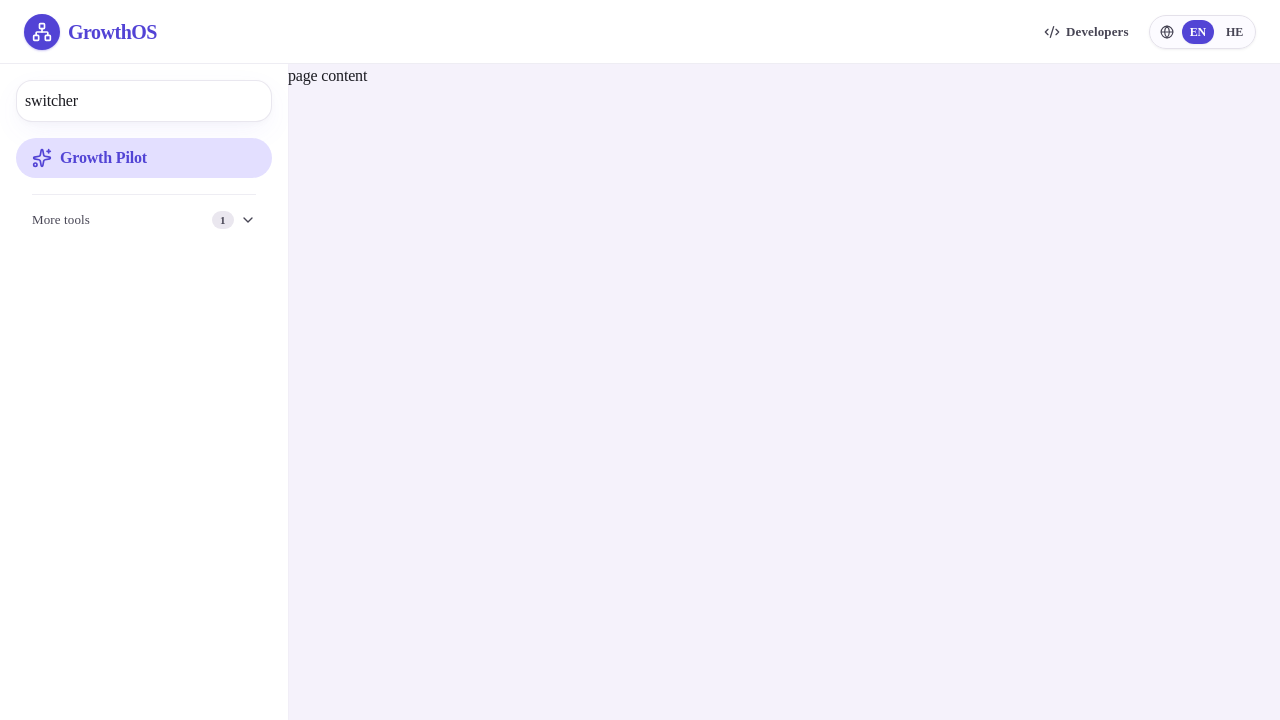
Test: AppShell folded nav group › tells a newcomer the folded tools can wait, once the group is open
The image size is (1280, 720).
Expected: the text "You don't need these to start." is not shown
Click the button "More tools 1".
click(144, 220)  # box x1=16 y1=203 x2=272 y2=237
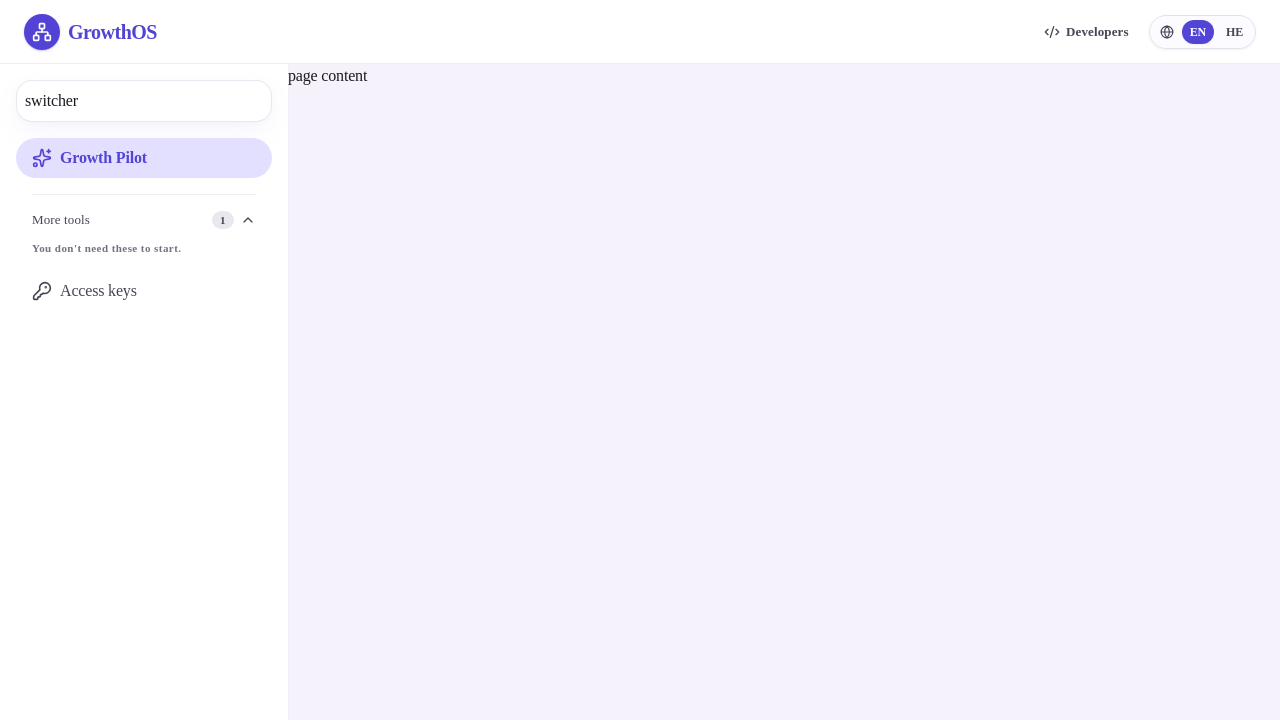
Result: the text "You don't need these to start." is shown at x1=32 y1=242 x2=182 y2=254
